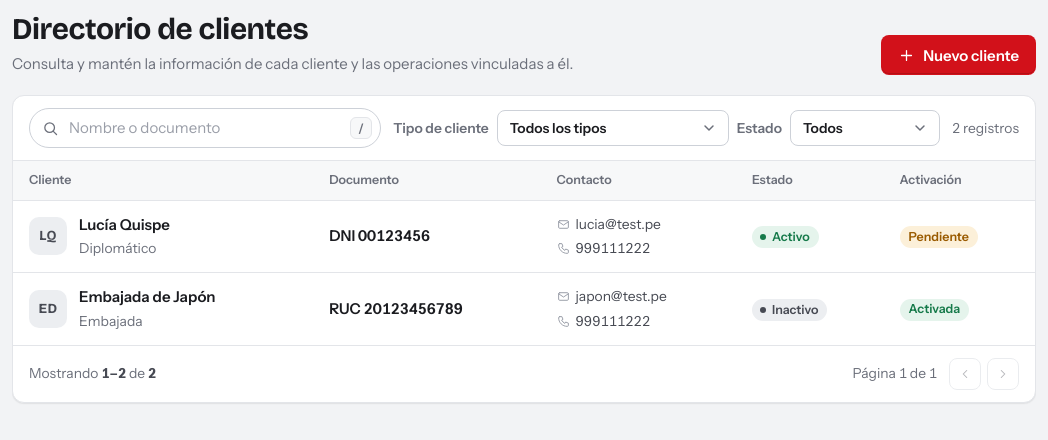
listing › asks the server for the search, filters and page instead of filtering in the browser
Expected: the button "Lucía Quispe" is shown, left=79, top=214, right=170, bottom=236
In the search field named "Buscar clientes": point(205, 128) left=69, top=117, right=340, bottom=139, type "lucía"
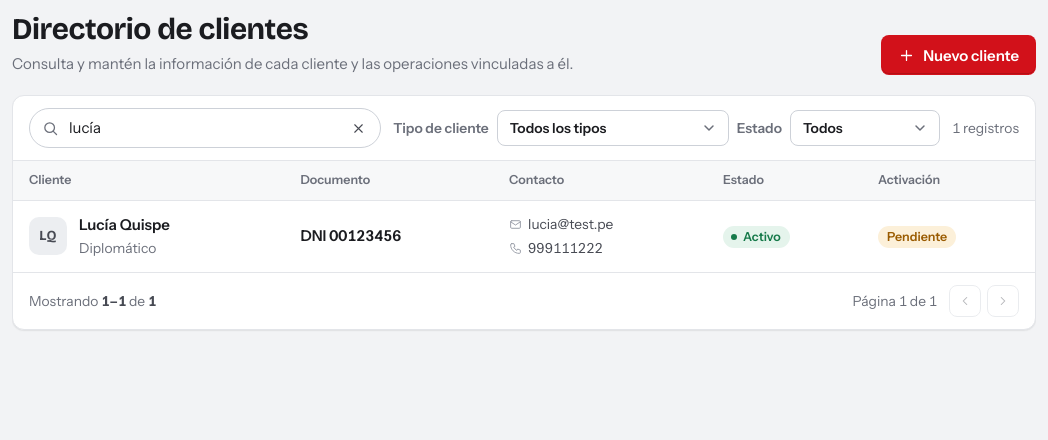
Result: the text "1 registros" is shown at left=952, top=118, right=1019, bottom=138
Result: the button "Embajada de Japón" is gone
Clear the search field named "Buscar clientes": point(202, 128) left=69, top=117, right=334, bottom=139
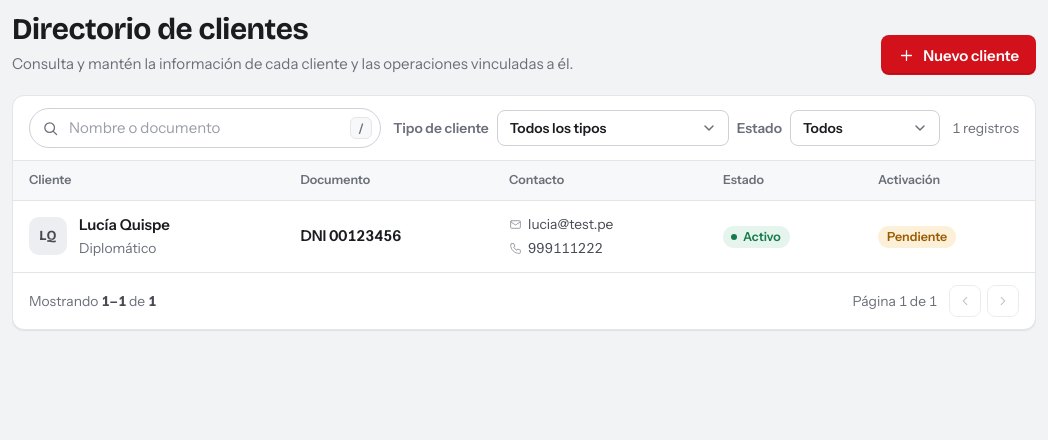
Select "Embajada" in the dropdown labelled "Tipo de cliente": point(613, 128) left=497, top=110, right=729, bottom=146
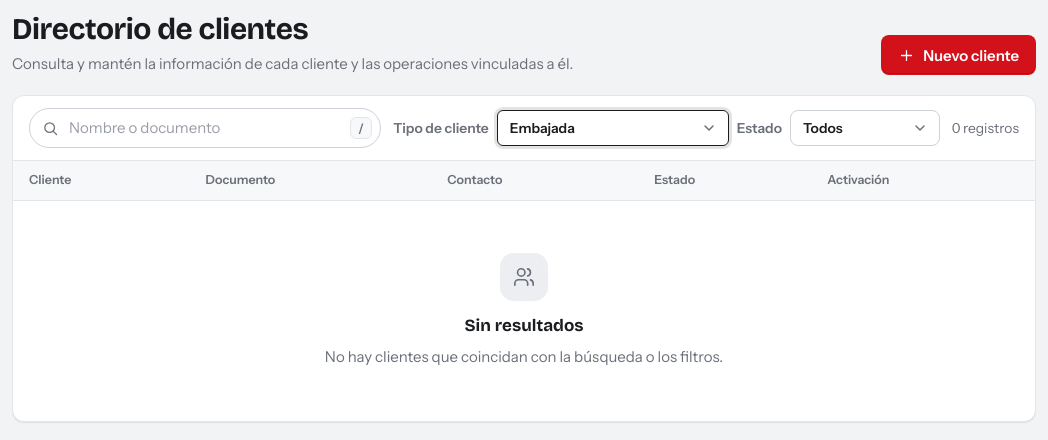
Select "Inactivo" in the dropdown labelled "Estado": point(865, 128) left=790, top=110, right=940, bottom=146
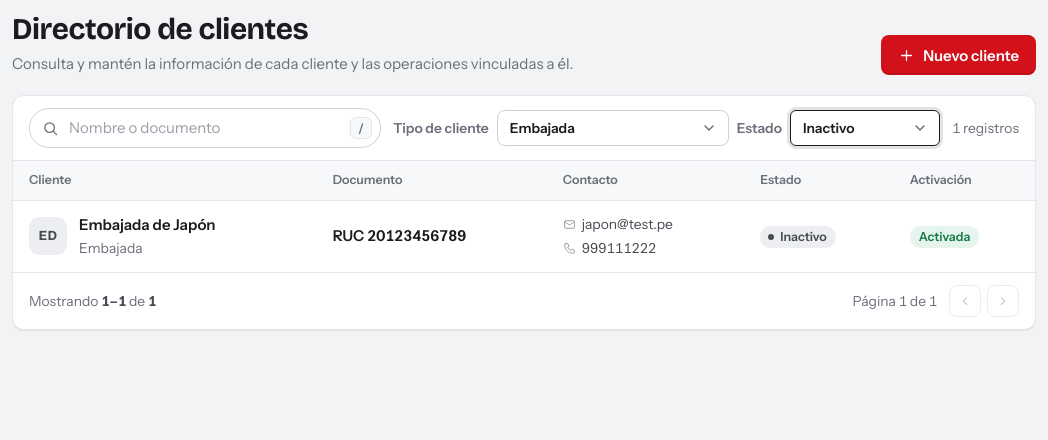
Result: the button "Embajada de Japón" is shown at left=79, top=214, right=216, bottom=236
